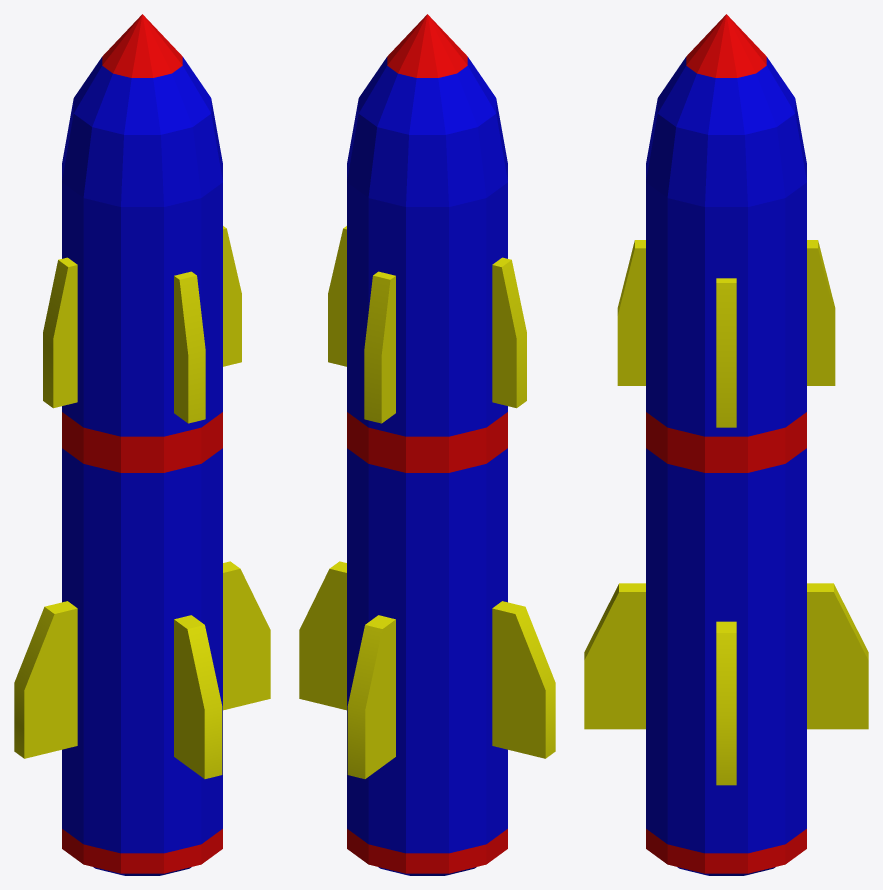
The model's file is Warhead_SM.fbx.
The picture shows the model from 3 angles, left to right: view 1: azimuth 30°, elevation 25°; view 2: azimuth 150°, elevation 25°; view 3: azimuth 270°, elevation 25°; orthographic projection.
Parts seen in each view (by area): view 1: pCylinder3; view 2: pCylinder3; view 3: pCylinder3.
Part boxes in pixels (x1,y1,x2,y2): pCylinder3: [14, 14, 270, 875]; pCylinder3: [299, 14, 555, 875]; pCylinder3: [584, 14, 868, 875].
Size of the model in its own units: 5.62 by 18.22 by 5.62.
